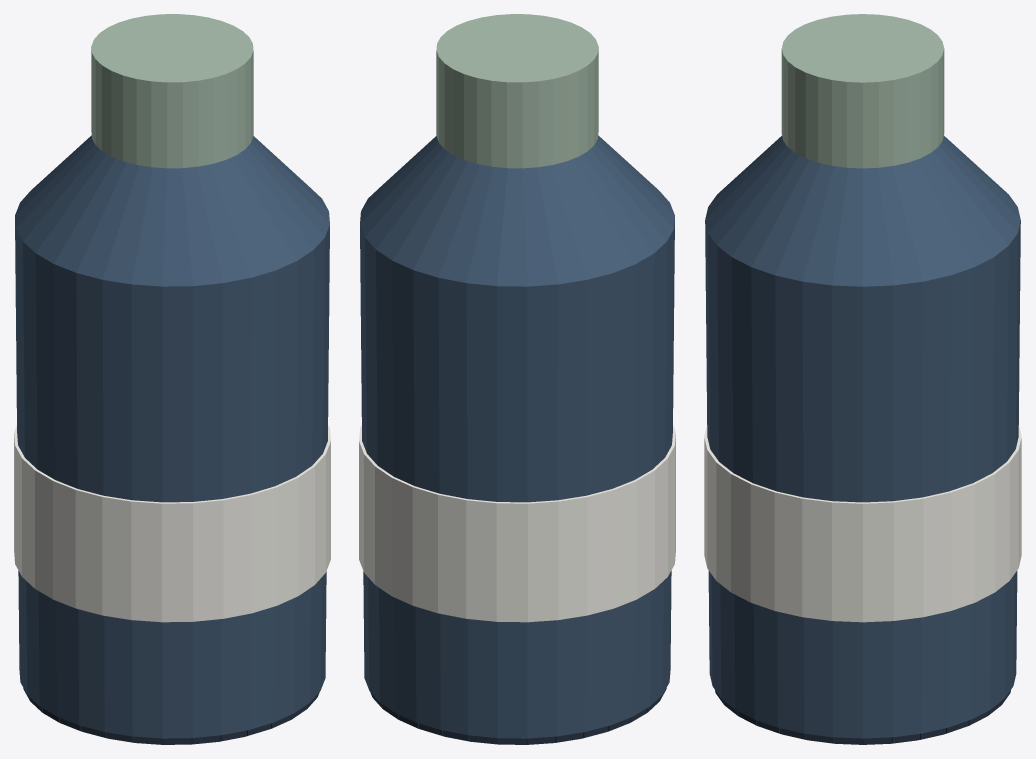
File: bottle.glb
3 renders of one model, left to right at view 1: azimuth 30°, elevation 25°; view 2: azimuth 150°, elevation 25°; view 3: azimuth 270°, elevation 25°, orthographic.
Visible parts, largest first — view 1: bottle body, grip band, shoulder, bottle cap; view 2: bottle body, grip band, shoulder, bottle cap; view 3: bottle body, grip band, shoulder, bottle cap.
Part boxes in pixels (x1,y1,x2,y2): bottle body: (15,219,329,738); grip band: (14,425,330,622); shoulder: (15,135,329,286); bottle cap: (91,14,253,168); bottle body: (360,219,674,738); grip band: (359,425,675,622); shoulder: (360,135,674,286); bottle cap: (436,14,598,168); bottle body: (705,220,1020,738); grip band: (704,425,1021,622); shoulder: (705,136,1020,286); bottle cap: (781,14,944,168).
Bounding box in the file's own units: 0.704 × 1.55 × 0.704.
